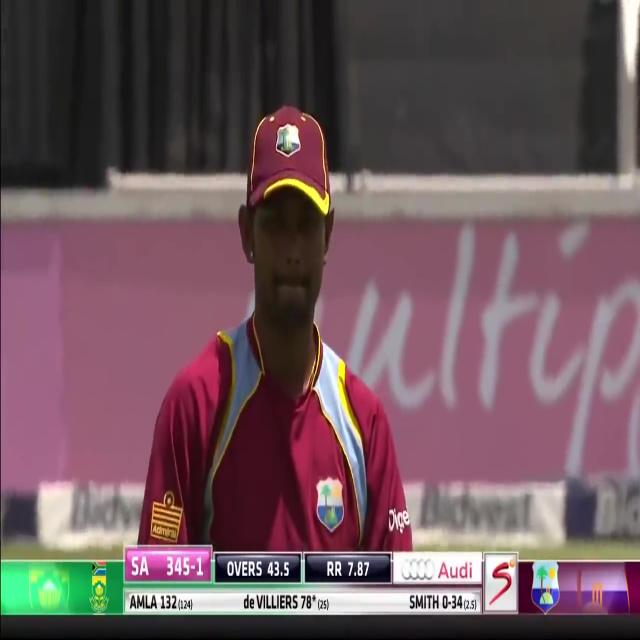Fielder: (139, 29, 417, 552)
